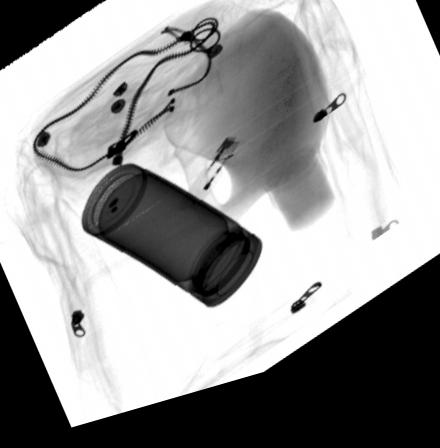Lighter: (178, 147, 245, 221)
